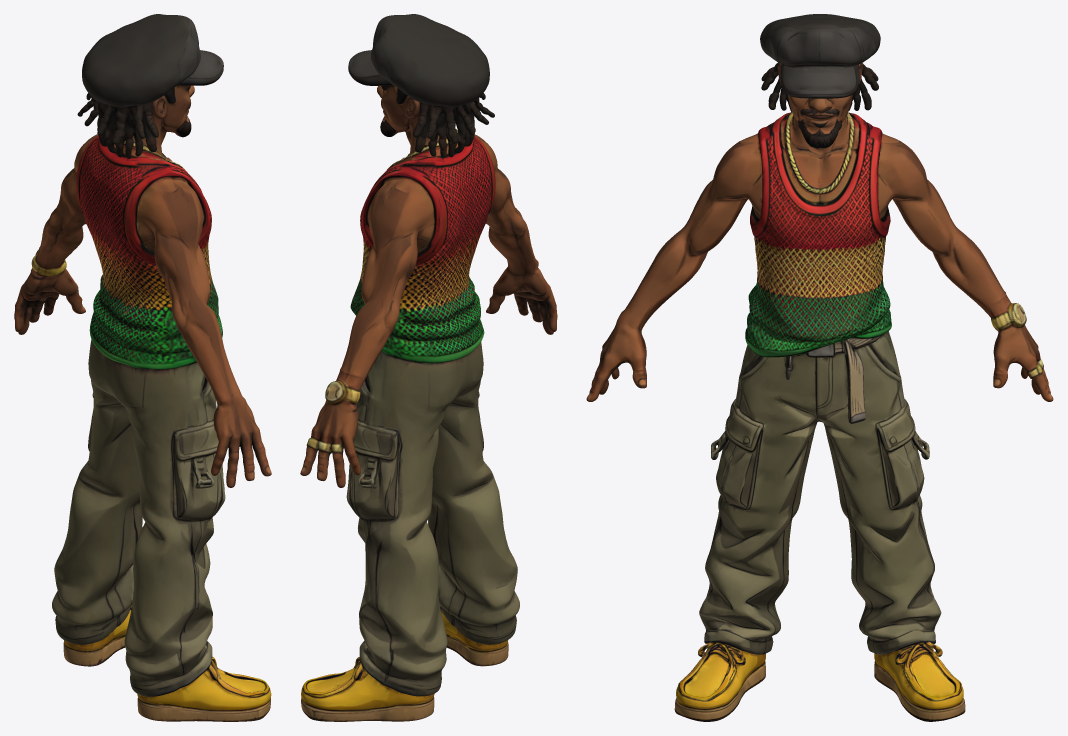
Rendered from lickshot.fbx.
The picture shows the model from 3 angles, left to right: view 1: azimuth 30°, elevation 25°; view 2: azimuth 150°, elevation 25°; view 3: azimuth 270°, elevation 25°; orthographic projection. The views are drawn at different scales.
Parts seen in each view (by area): view 1: tripo_node_e9f1fc92-82ae-417e-a329-51b3331d502f_mesh0; view 2: tripo_node_e9f1fc92-82ae-417e-a329-51b3331d502f_mesh0; view 3: tripo_node_e9f1fc92-82ae-417e-a329-51b3331d502f_mesh0.
Boxes of the visible parts, x1,y1,x2,y2 form: tripo_node_e9f1fc92-82ae-417e-a329-51b3331d502f_mesh0: (14, 14, 271, 721); tripo_node_e9f1fc92-82ae-417e-a329-51b3331d502f_mesh0: (300, 14, 557, 721); tripo_node_e9f1fc92-82ae-417e-a329-51b3331d502f_mesh0: (586, 14, 1053, 721).
Size of the model in its own units: 209 by 1000 by 620.
Materials: 1 (1 with a texture image).
